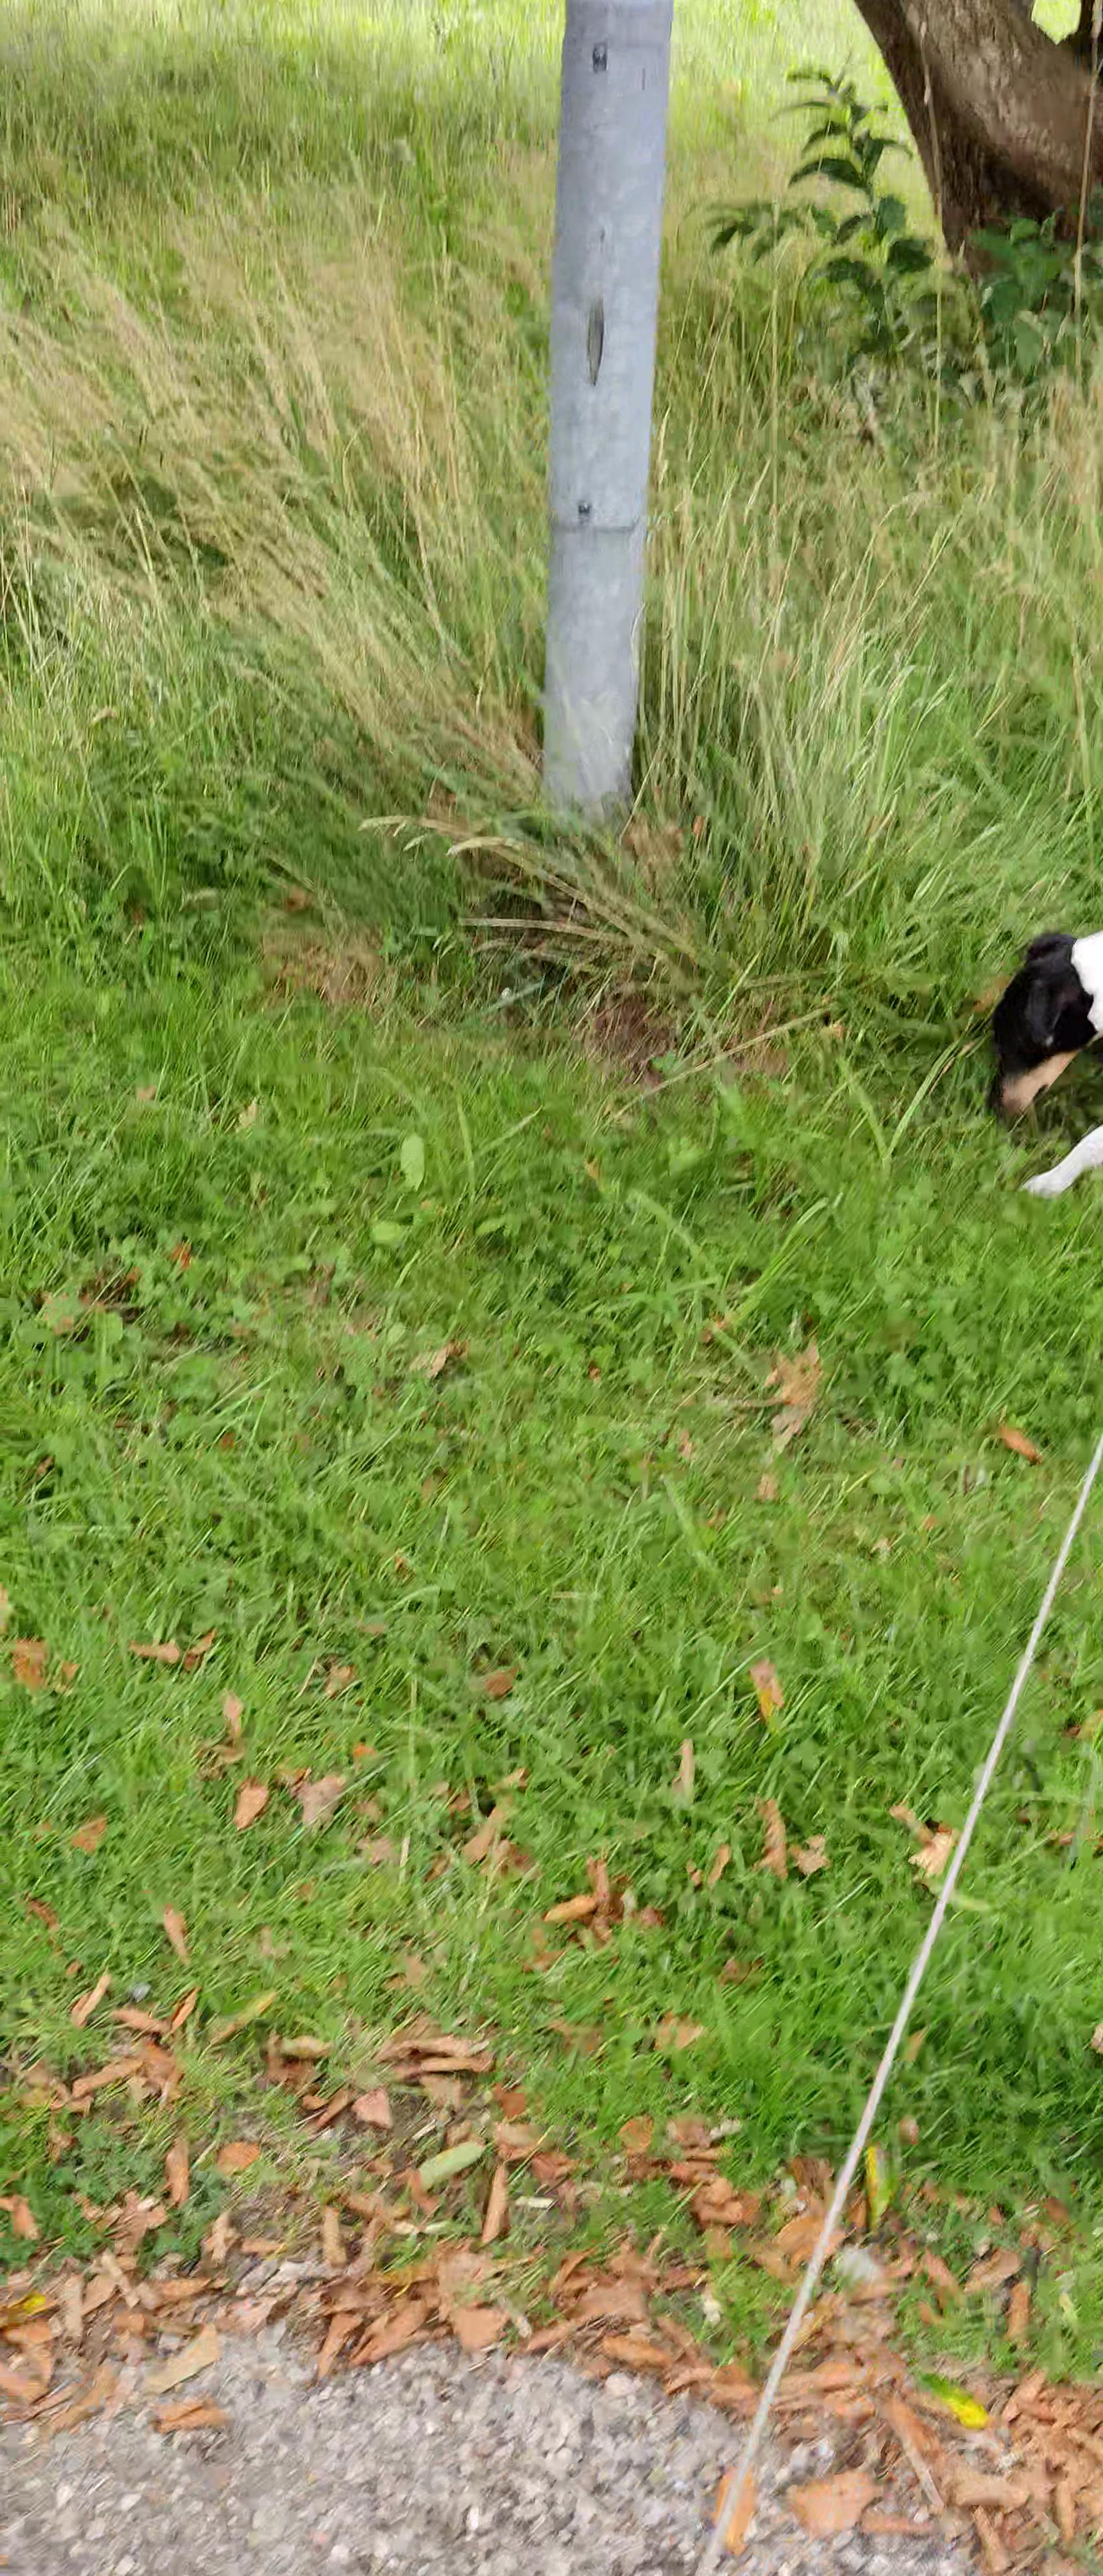Dog: (968, 905, 1103, 1222)
